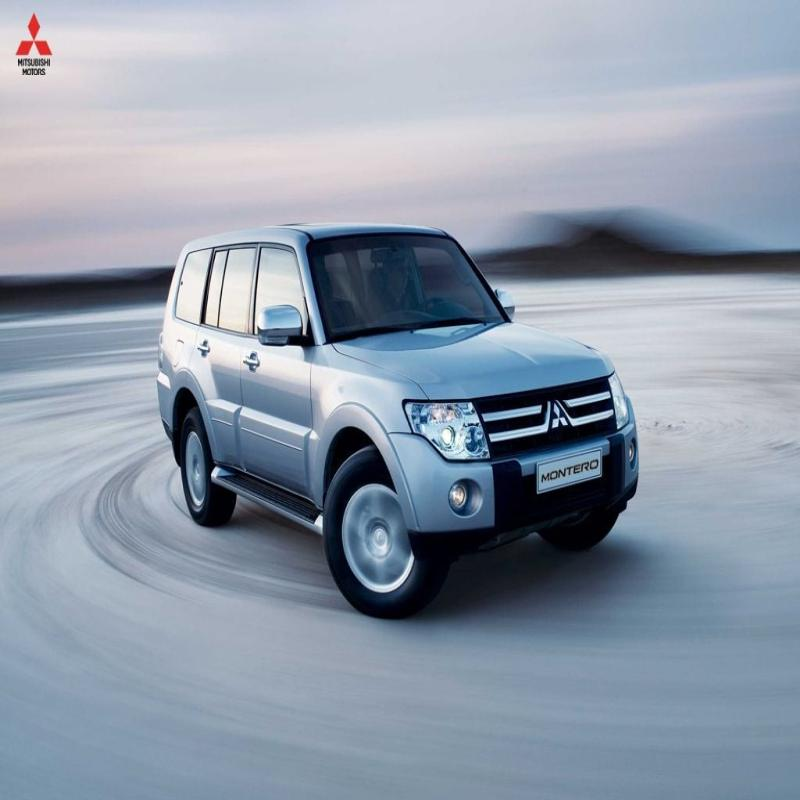car: (146, 205, 636, 690)
